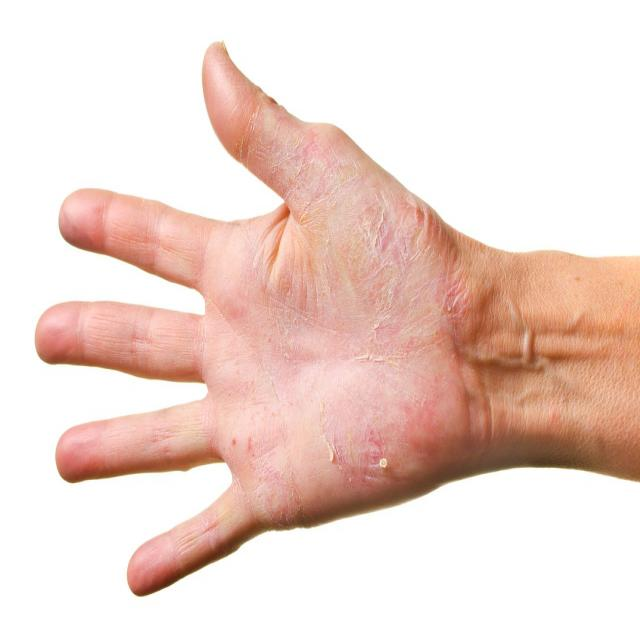eczema: (242, 124, 434, 451)
